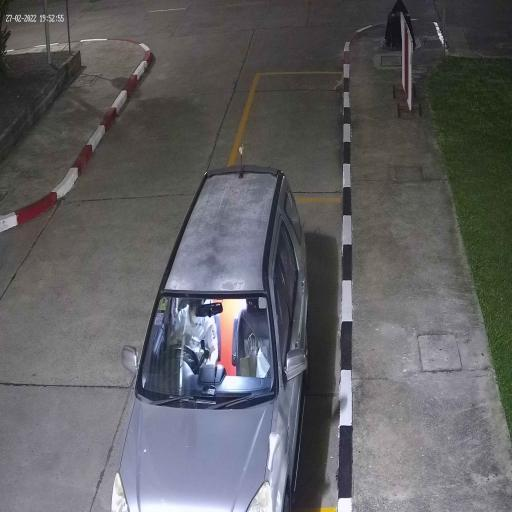car: (111, 164, 310, 512)
